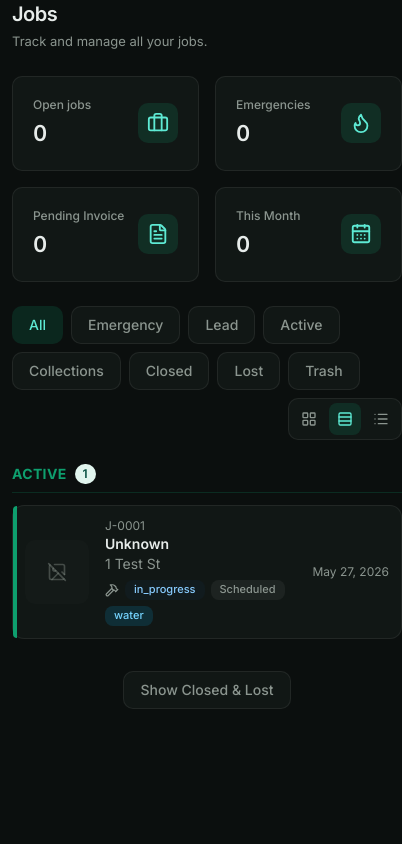
Test: Jobs page — hide Closed & Lost by default (#728) › reveals the Closed & Lost sections when the toggle is turned on
Check: the element with test id "section-in_progress" is shown, box [12,464,401,638]
Click the button with test id "toggle-closed-lost": [207, 690] box [124,670,290,708]
(page scrolled)
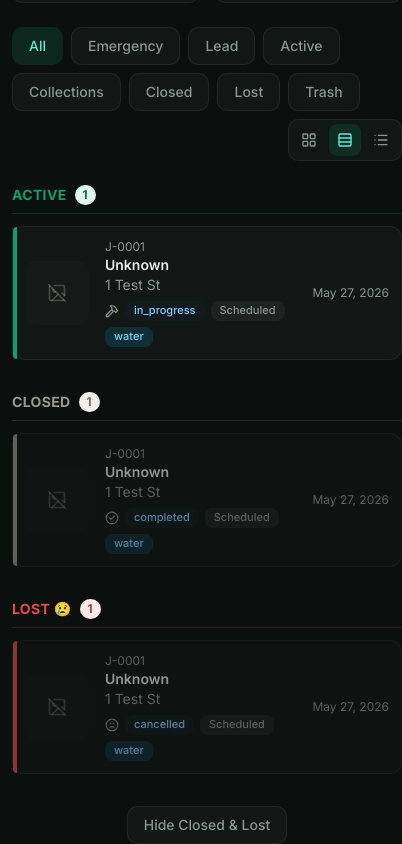
Check: the element with test id "section-completed" is shown, box [12,392,401,566]
Check: the element with test id "section-cancelled" is shown, box [12,598,401,774]
